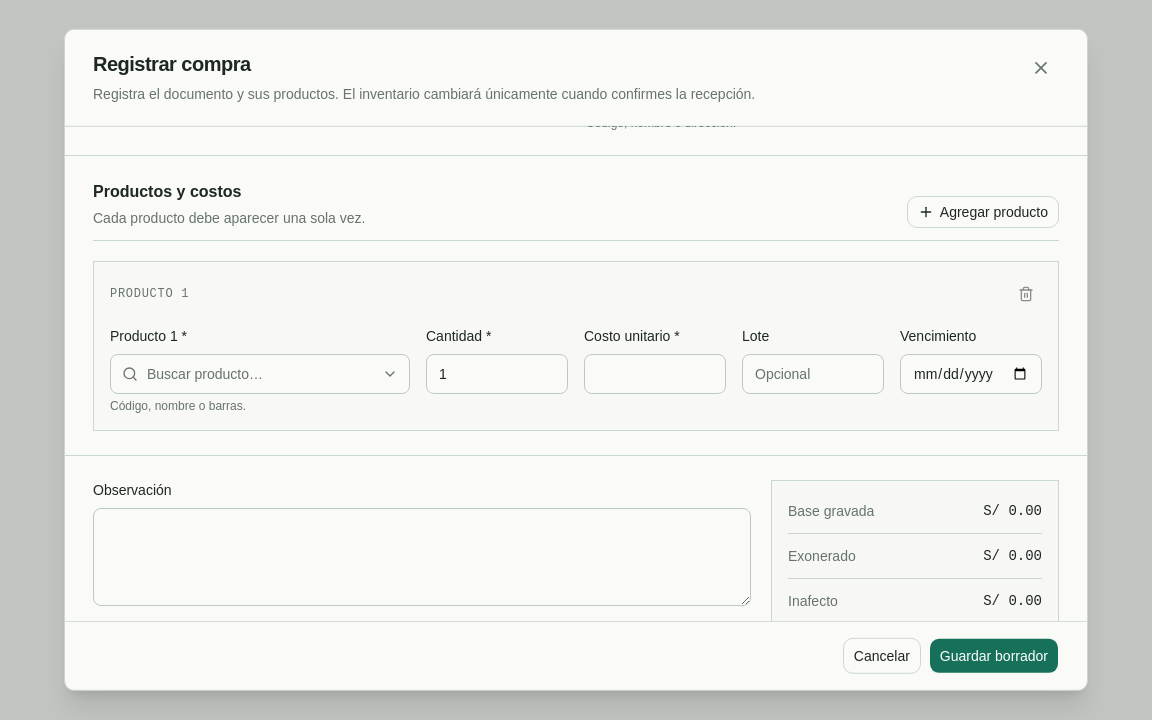
Scenario: DialogoCompra › identifica el producto cuya afectación de IGV debe completarse
(page scrolled)
Focus the dropdown labelled "Producto 1": (260, 374) 110,354 -> 410,394
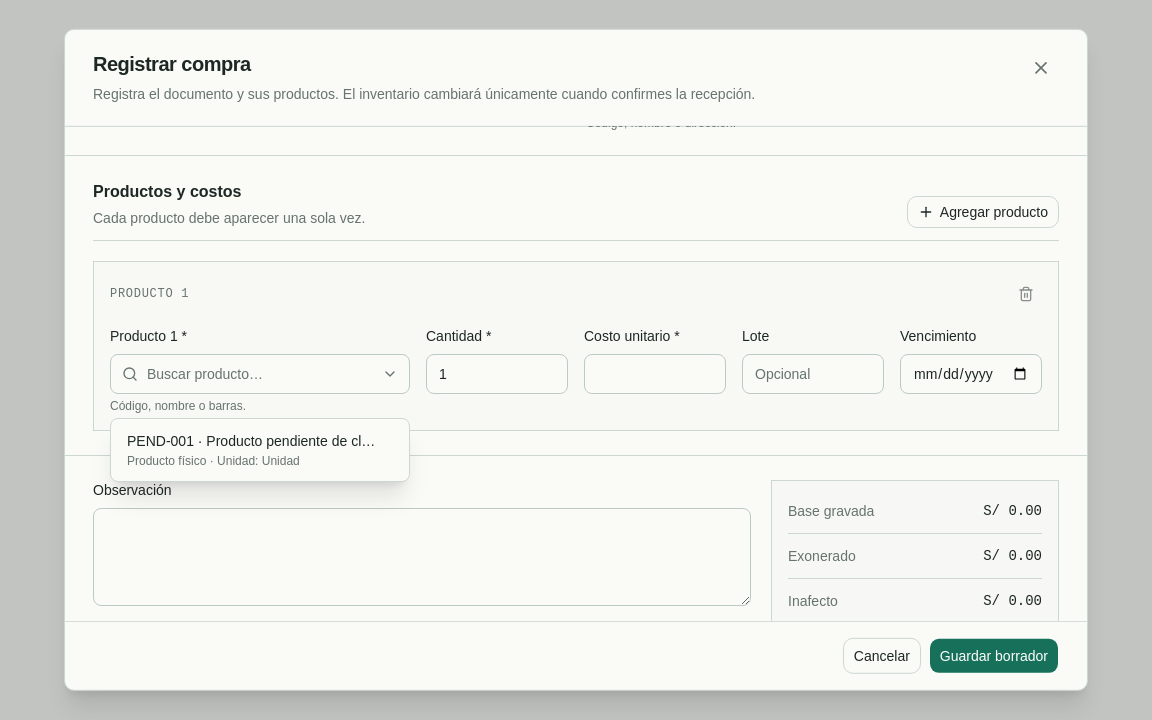
Click the option "PEND-001": click(253, 450) 115,423 -> 391,477
(page scrolled)
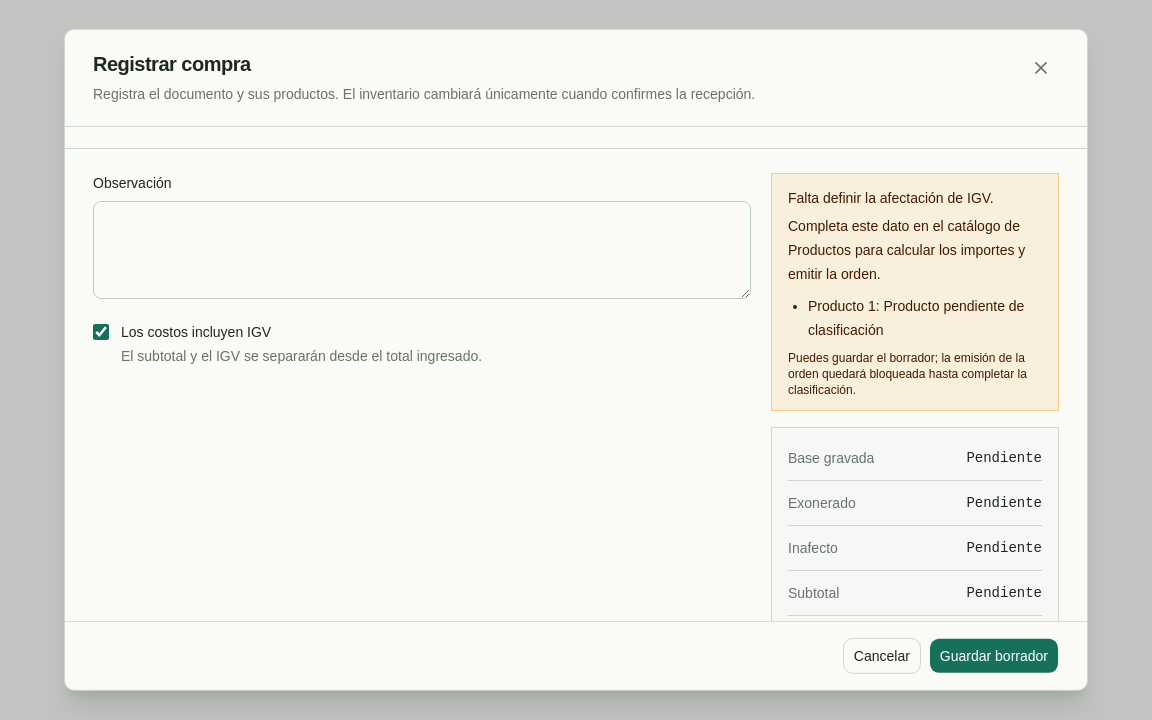
Expected: the message shows "Producto pendiente de clasificación", 808,298 -> 1024,338
Expected: the text "la emisión de la orden quedará bloqueada" is shown, 788,351 -> 1027,397
